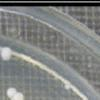white: (0, 45, 13, 62), (4, 86, 18, 99), (10, 91, 25, 100)
